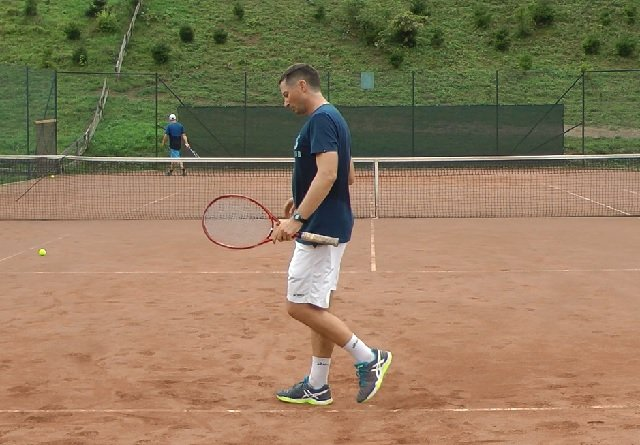tennis ball: (37, 247, 50, 259)
tennis player: (269, 64, 397, 411), (155, 112, 197, 180)
